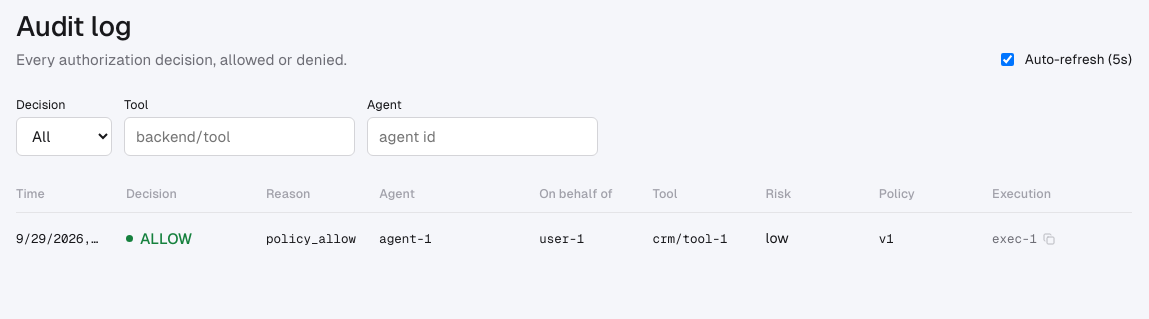
Test case: AuditPage › expands redacted arguments when a row is clicked
This screenshot has width=1149, height=319.
Click the text "crm/tool-1". click: [709, 238]
box: left=652, top=212, right=766, bottom=264
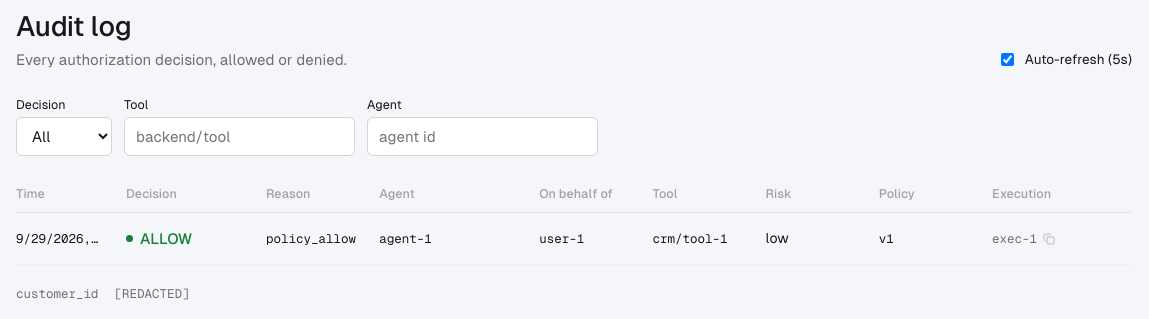
Now the text "customer_id" is shown, box left=16, top=285, right=98, bottom=302
Now the text "[REDACTED]" is shown, box left=114, top=285, right=190, bottom=302
